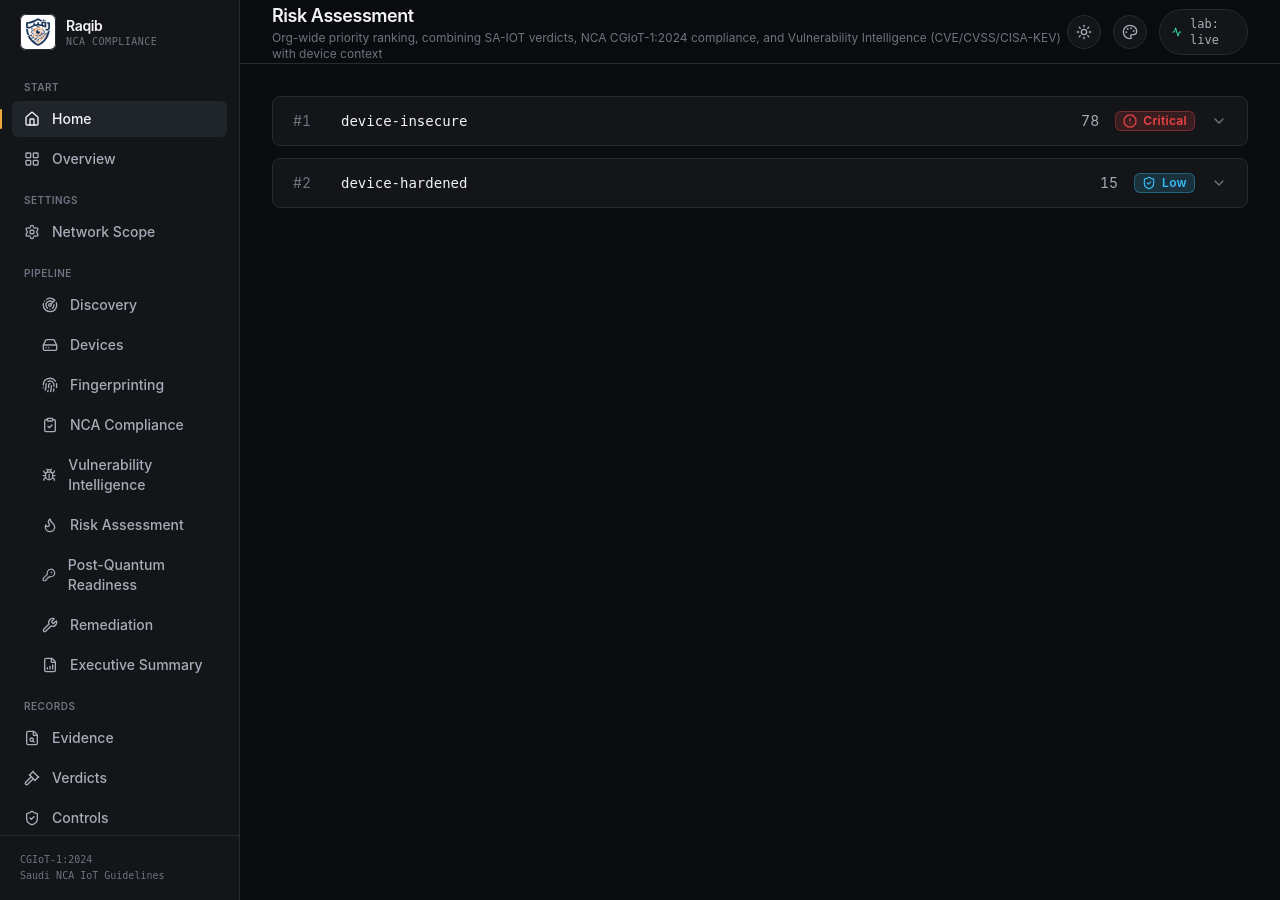
Test: RiskAssessmentPage › expands a row to show the full per-factor breakdown
Click the button "#1 device-insecure 78 Critical" at (404,121), box [273, 97, 1247, 145]
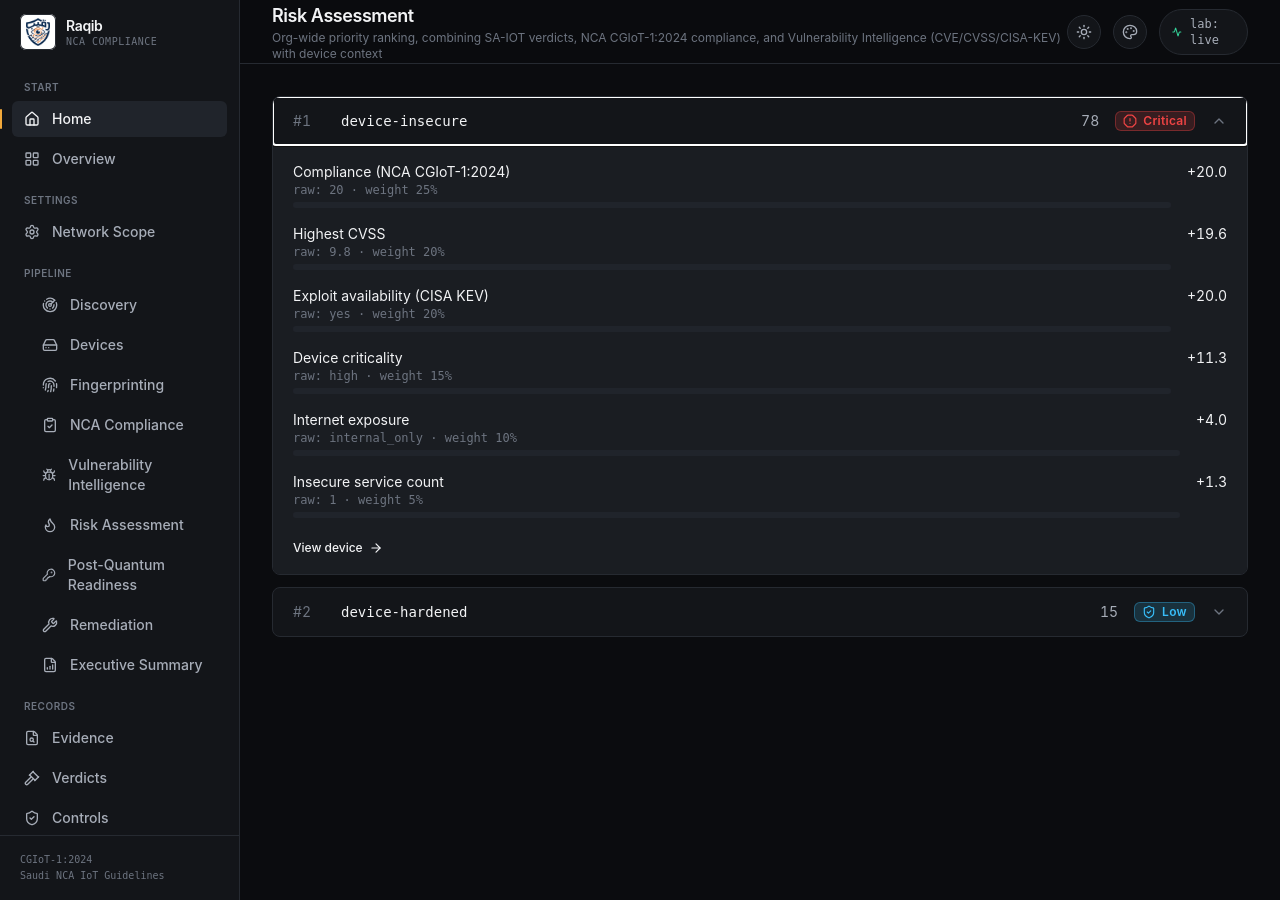
Check: the text "Compliance (NCA CGIoT-1:2024)" is shown, box [293, 163, 510, 180]
Check: the text "Highest CVSS" is shown, box [293, 225, 386, 242]
Check: the text "Exploit availability (CISA KEV)" is shown, box [293, 287, 489, 304]
